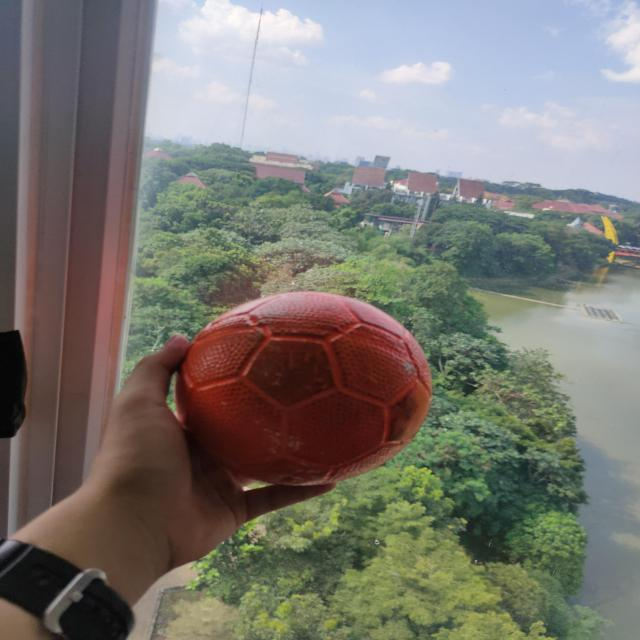bola: (168, 287, 440, 489)
